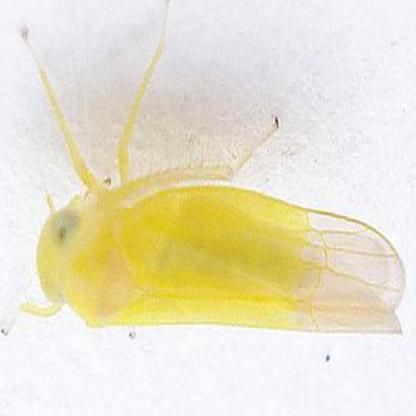green-leafhopper: (29, 166, 408, 346)
